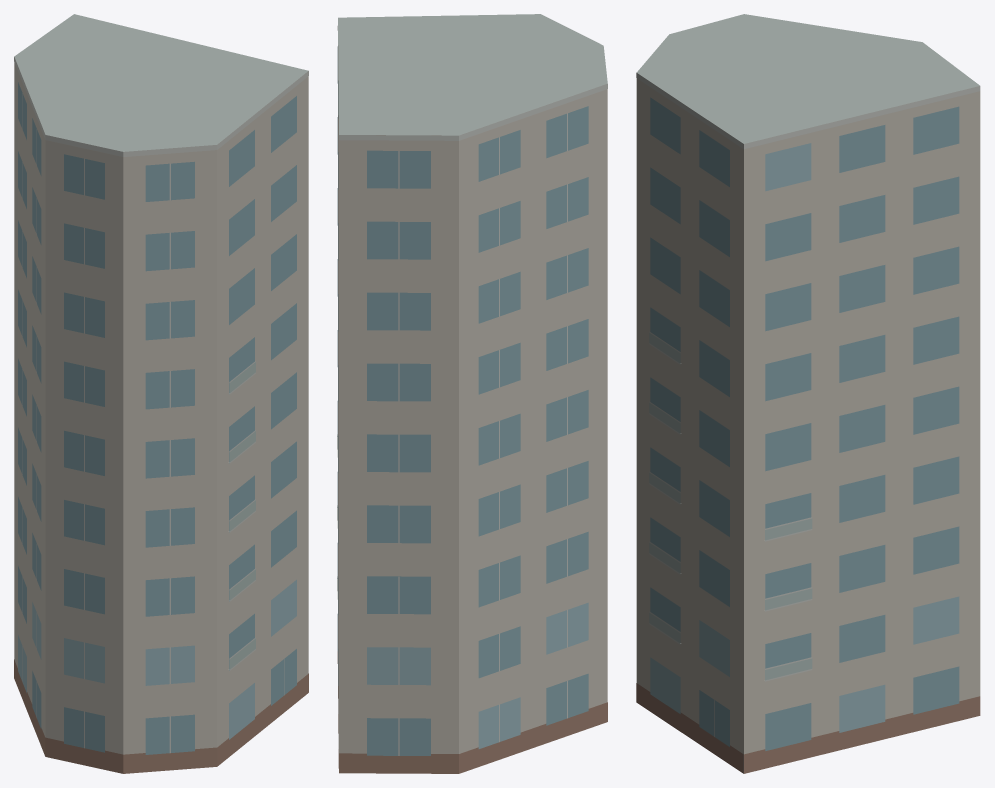
Rendered from survey-upis-32521534.glb.
The picture shows the model from 3 angles, left to right: view 1: azimuth 30°, elevation 25°; view 2: azimuth 150°, elevation 25°; view 3: azimuth 270°, elevation 25°; orthographic projection. The views are drawn at different scales.
Visible parts, largest first — view 1: survey-upis-32521534.tmp; view 2: survey-upis-32521534.tmp; view 3: survey-upis-32521534.tmp.
Boxes of the visible parts, <box> form: survey-upis-32521534.tmp: <box>14,14,308,773</box>; survey-upis-32521534.tmp: <box>337,14,607,773</box>; survey-upis-32521534.tmp: <box>636,14,980,773</box>.
Bounding box in the file's own units: 12.92 × 29.15 × 14.43.
